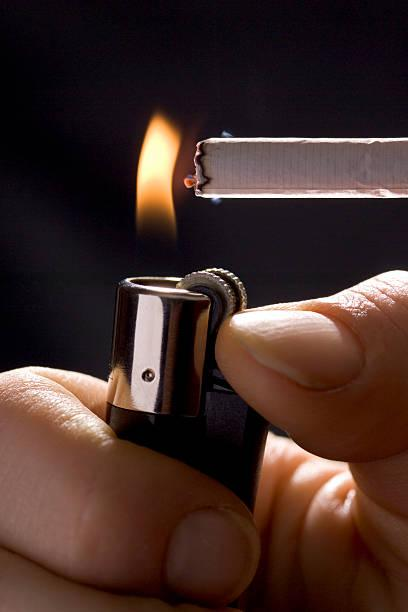Fire: (133, 108, 193, 271)
